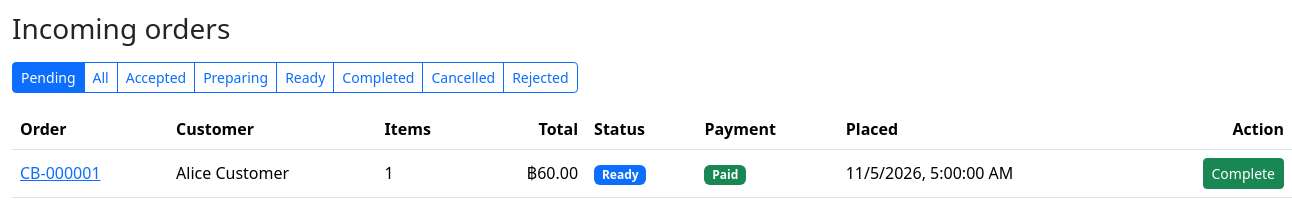
Test: OperatorOrders fulfilment actions (AC-86) › TEST-86: Complete reloads the list when the active filter no longer matches
Expected: the link "CB-000001" is shown, [20,162,101,184]
Click the button "Ready": point(305, 77) [276,62,334,93]
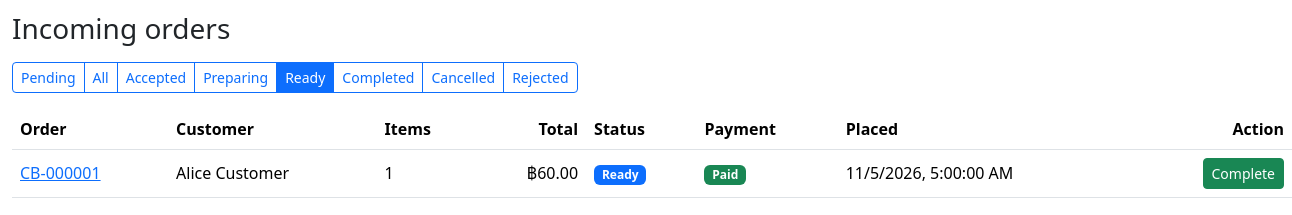
Click the button "Complete": point(1243, 173) [1202,158,1284,189]
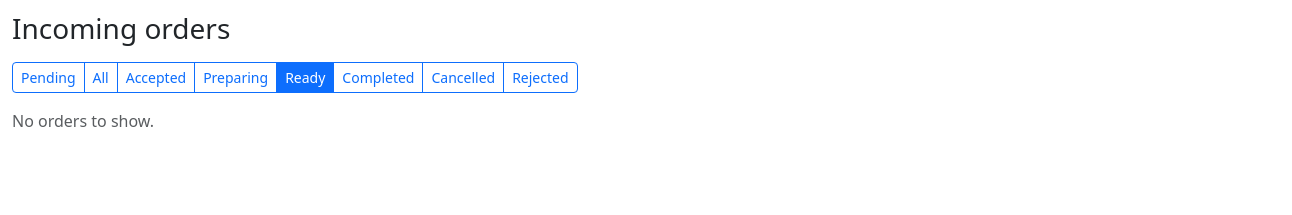
Now the text "No orders to show." is shown, box [12,110,154,132]
